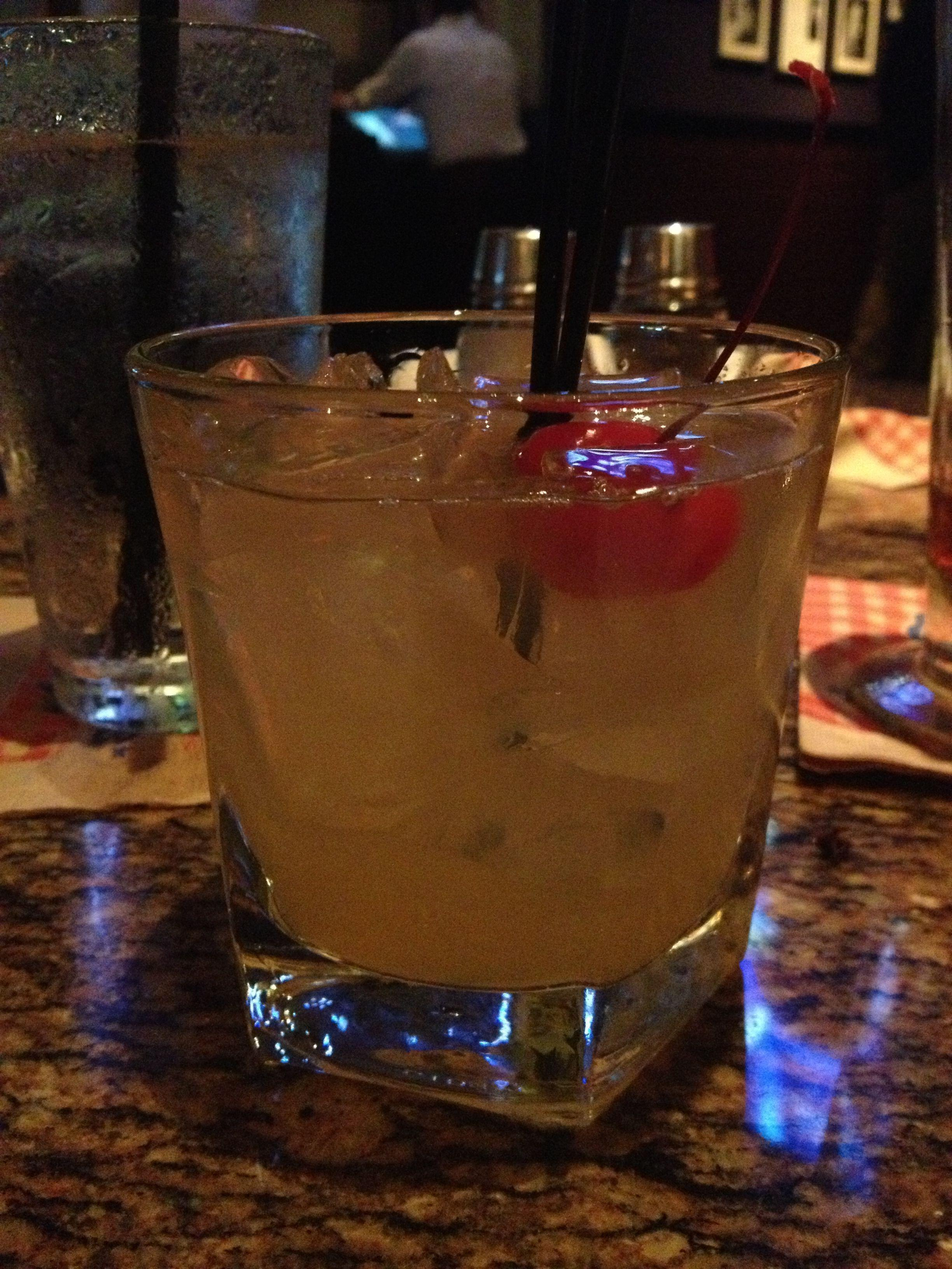glass-normal: (123, 309, 852, 1129), (2, 10, 340, 739)
